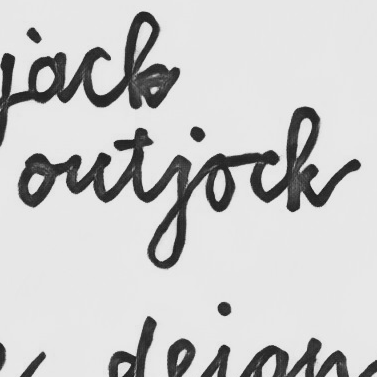c: (247, 148, 281, 205)
j: (143, 151, 194, 271)
k: (283, 104, 326, 215)
o: (15, 151, 57, 211), (201, 151, 237, 215)
t: (117, 124, 159, 206)
u: (63, 151, 114, 204)
